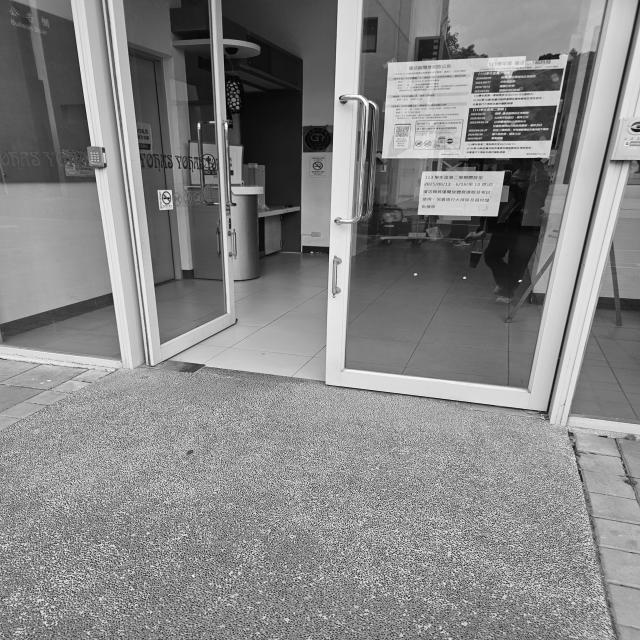Road-Object: (0, 254, 640, 640)
